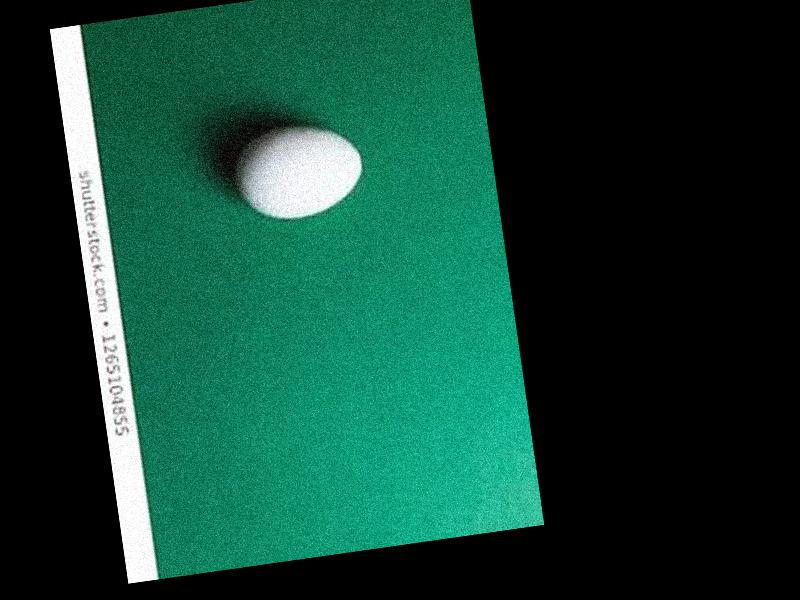Eggs: (229, 120, 367, 229)
